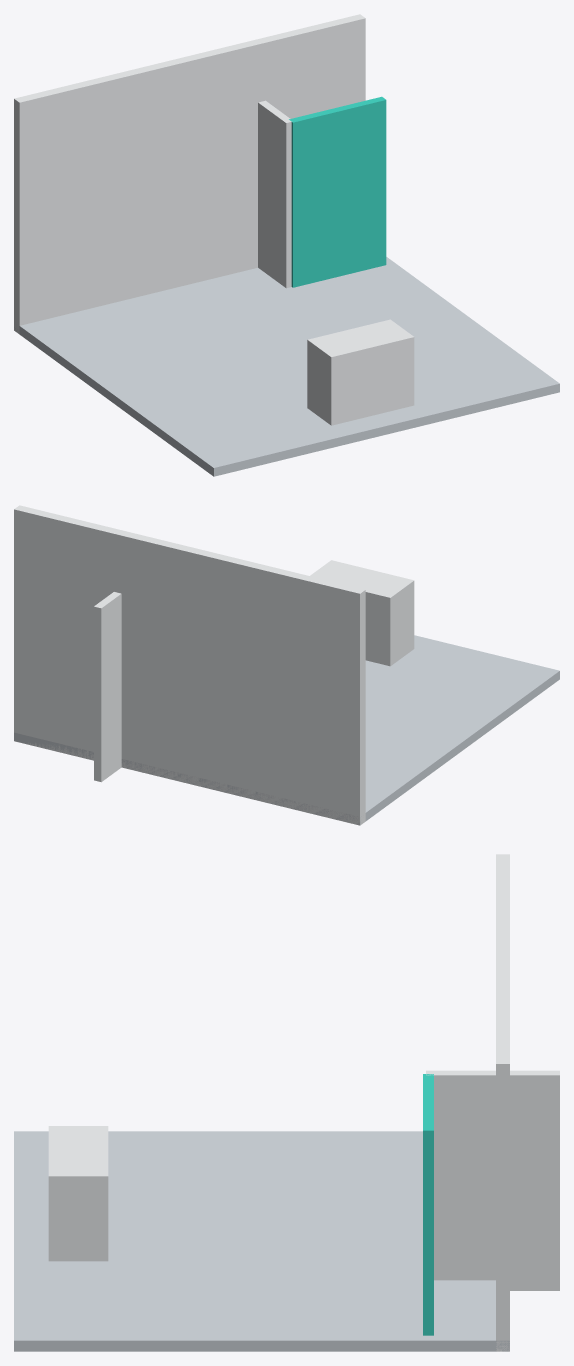
The picture shows the model from 3 angles, top to bottom: view 1: azimuth 30°, elevation 25°; view 2: azimuth 150°, elevation 25°; view 3: azimuth 270°, elevation 25°; orthographic projection. The views are drawn at different scales.
Parts seen in each view (by area): view 1: Exhibition Booth Concept; view 2: Exhibition Booth Concept; view 3: Exhibition Booth Concept.
Part boxes in pixels (bbox=[...]): Exhibition Booth Concept: bbox=[14, 14, 559, 476]; Exhibition Booth Concept: bbox=[14, 505, 559, 825]; Exhibition Booth Concept: bbox=[14, 854, 559, 1351].
Size of the model in its own units: 5 by 3.2 by 5.51.
